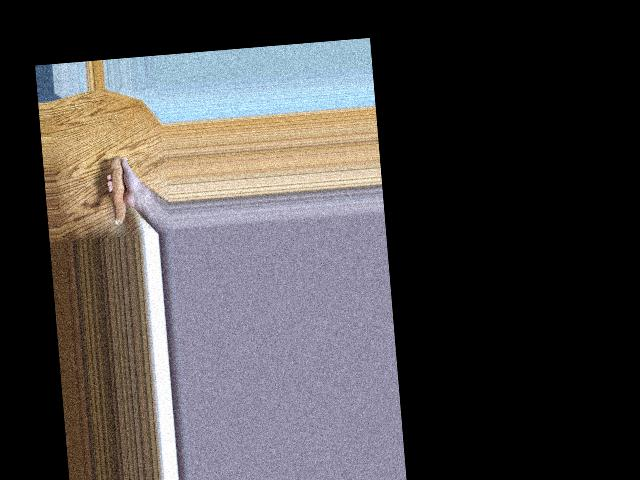sweet_potato: (108, 154, 135, 226)
